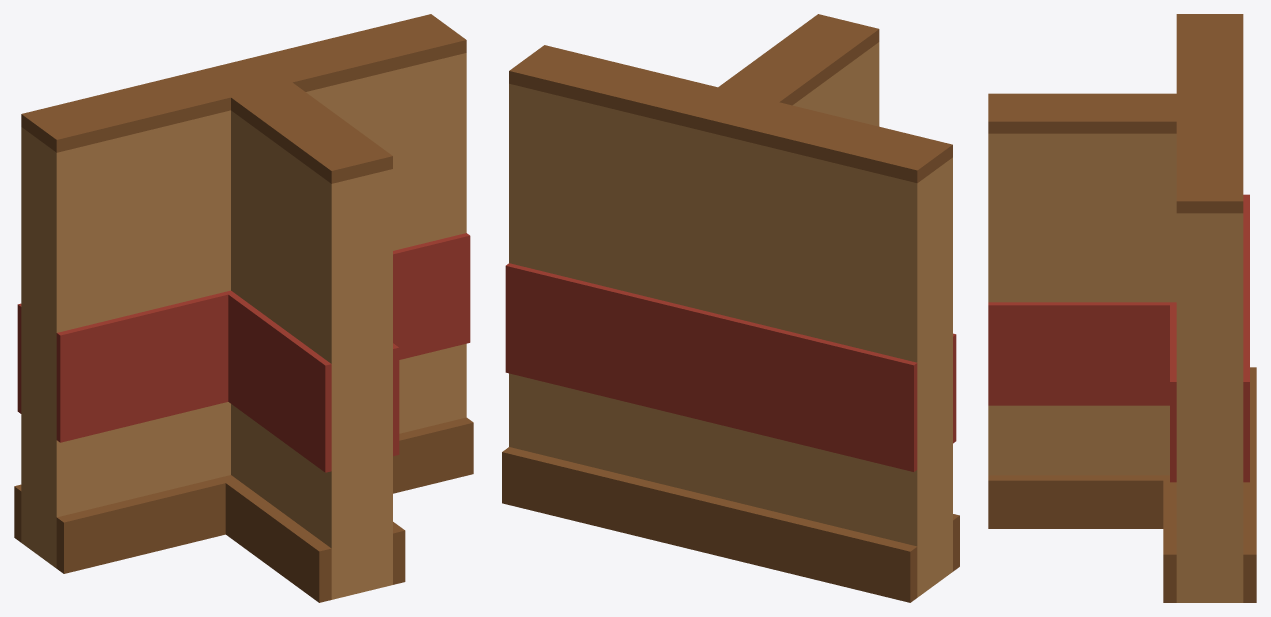
The model's file is partition-full-tee.glb.
3 renders of one model, left to right at view 1: azimuth 30°, elevation 25°; view 2: azimuth 150°, elevation 25°; view 3: azimuth 270°, elevation 25°, orthographic. The views are drawn at different scales.
Visible parts, largest first — view 1: partition-full-tee; view 2: partition-full-tee; view 3: partition-full-tee.
Boxes of the visible parts, left/top/right/bottom form: partition-full-tee: left=14, top=14, right=473, bottom=602; partition-full-tee: left=502, top=14, right=959, bottom=602; partition-full-tee: left=988, top=14, right=1256, bottom=602.
Size of the model in its own units: 1 by 1 by 0.605.
Materials: 1 (1 with a texture image).
